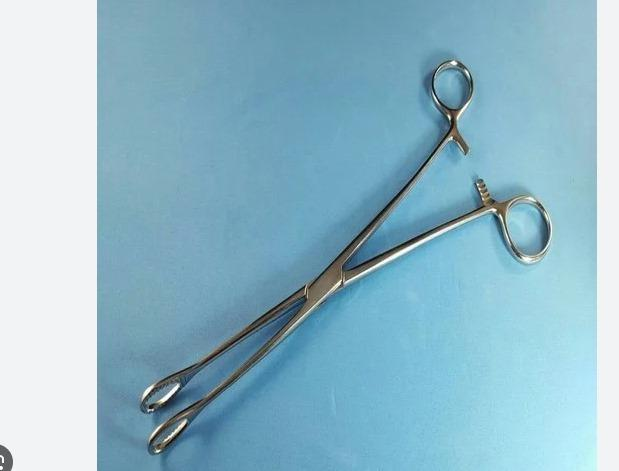Sponge Holding Forceps: (138, 57, 556, 456)
